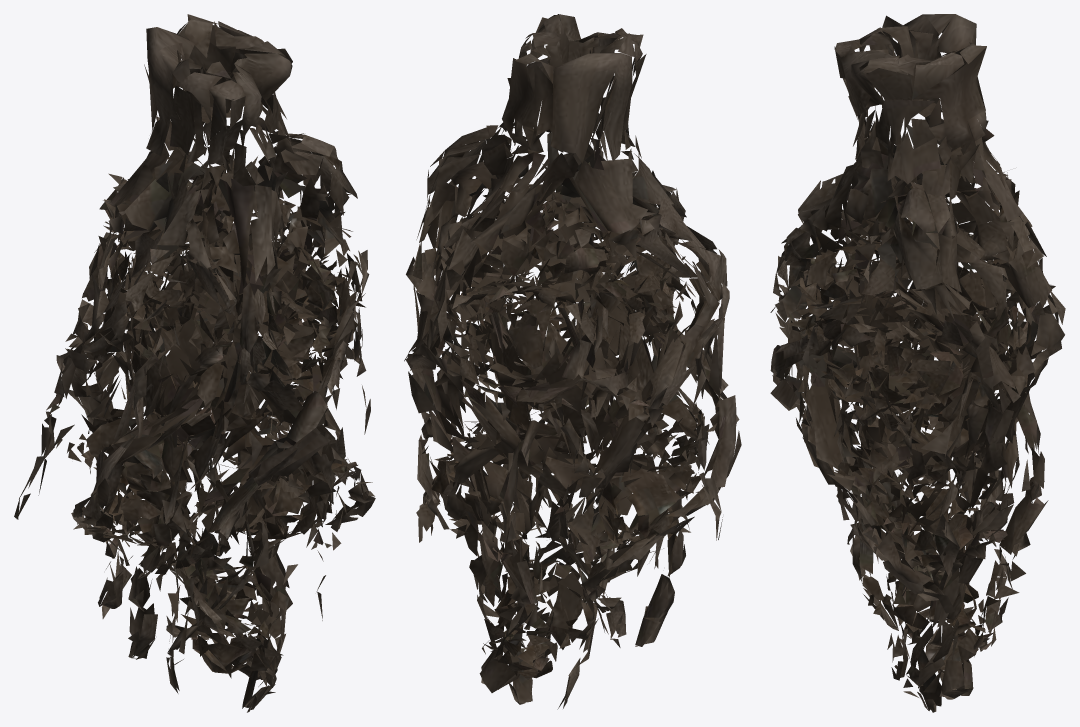
File: roots.glb
3 renders of one model, left to right at view 1: azimuth 30°, elevation 25°; view 2: azimuth 150°, elevation 25°; view 3: azimuth 270°, elevation 25°, orthographic. The views are drawn at different scales.
Parts seen in each view (by area): view 1: Mesh_0; view 2: Mesh_0; view 3: Mesh_0.
Part boxes in pixels (left/top/right/bottom): Mesh_0: left=14, top=14, right=375, bottom=712; Mesh_0: left=404, top=14, right=741, bottom=709; Mesh_0: left=770, top=14, right=1065, bottom=712.
Size of the model in its own units: 4.92 by 9.97 by 4.04.
1 material, 1 textured.
